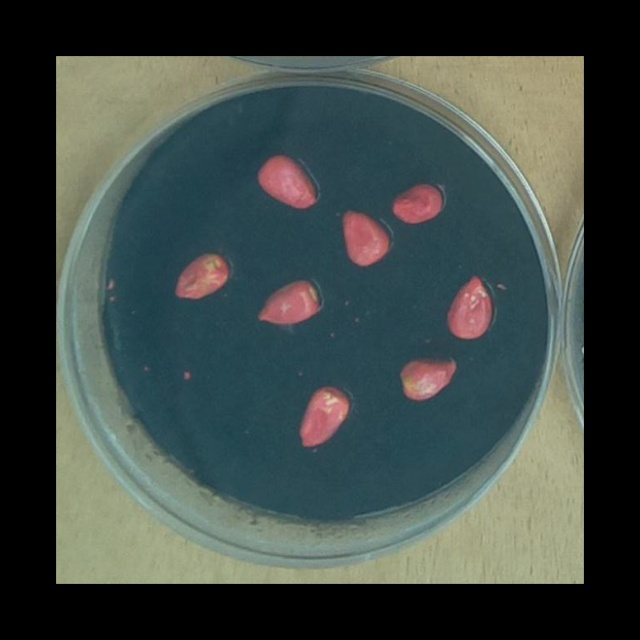Zea mays: (251, 148, 322, 213), (292, 378, 354, 452), (441, 268, 495, 344), (252, 273, 325, 329), (335, 204, 395, 271), (392, 351, 462, 404), (169, 246, 235, 302), (385, 176, 447, 228)
